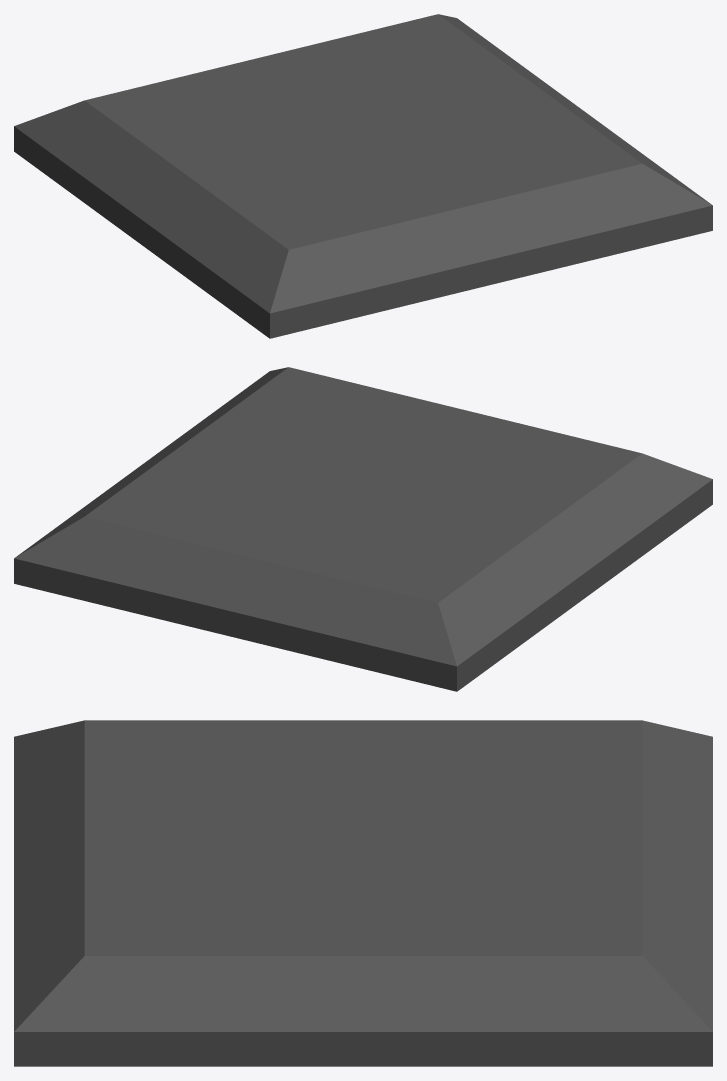
File: Itr_Table5_Top_04.FBX
The picture shows the model from 3 angles, top to bottom: view 1: azimuth 30°, elevation 25°; view 2: azimuth 150°, elevation 25°; view 3: azimuth 270°, elevation 25°; orthographic projection. The views are drawn at different scales.
Visible parts, largest first — view 1: Itr_Table5_Top_04; view 2: Itr_Table5_Top_04; view 3: Itr_Table5_Top_04.
Boxes of the visible parts, x1,y1,x2,y2 form: Itr_Table5_Top_04: (14,14,712,338); Itr_Table5_Top_04: (14,367,712,691); Itr_Table5_Top_04: (14,720,712,1066).
Bounding box in the file's own units: 40.13 × 5.12 × 40.15.
